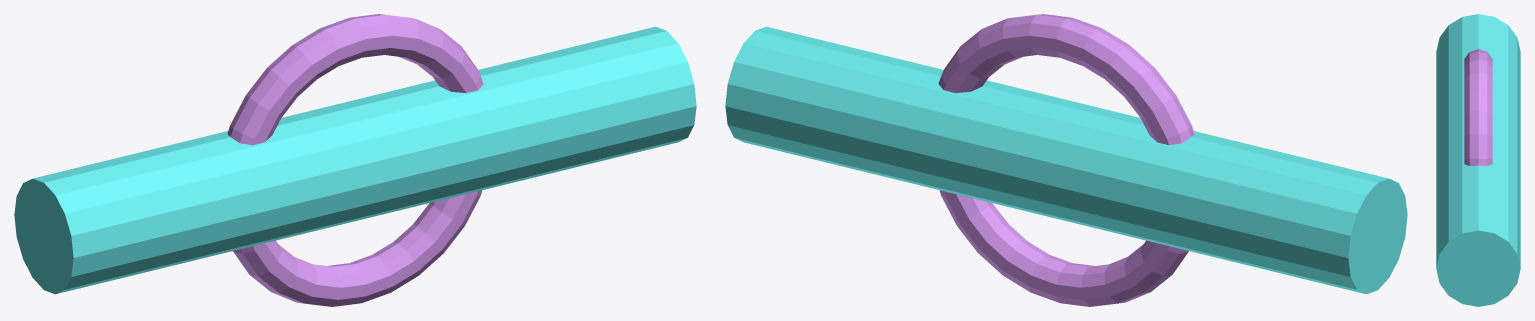
File: water-shutoff-valve.glb
The picture shows the model from 3 angles, left to right: view 1: azimuth 30°, elevation 25°; view 2: azimuth 150°, elevation 25°; view 3: azimuth 270°, elevation 25°; orthographic projection. The views are drawn at different scales.
Visible parts, largest first — view 1: world; view 2: world; view 3: world.
Part boxes in pixels (left/top/right/bottom): world: left=14, top=14, right=696, bottom=306; world: left=725, top=14, right=1407, bottom=306; world: left=1436, top=14, right=1520, bottom=306.
Size of the model in its own units: 0.85 by 0.37 by 0.14.
